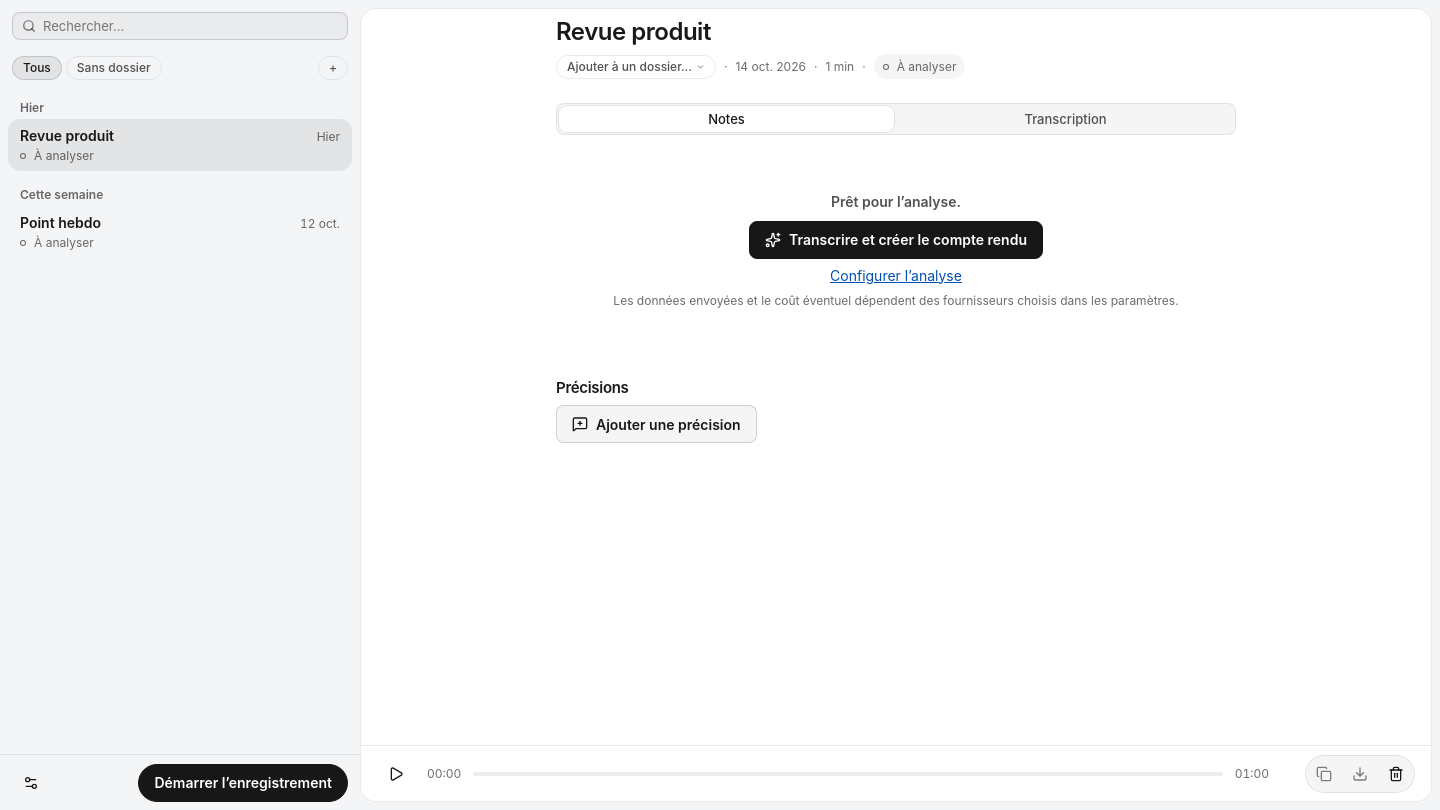
it: The meeting detail in the app › stops the sound when the settings open and comes back at the start
Check: the heading "Revue produit" is shown, box [556,17,711,46]
Click the button named "Lire" at (396, 774), box [377,754,415,792]
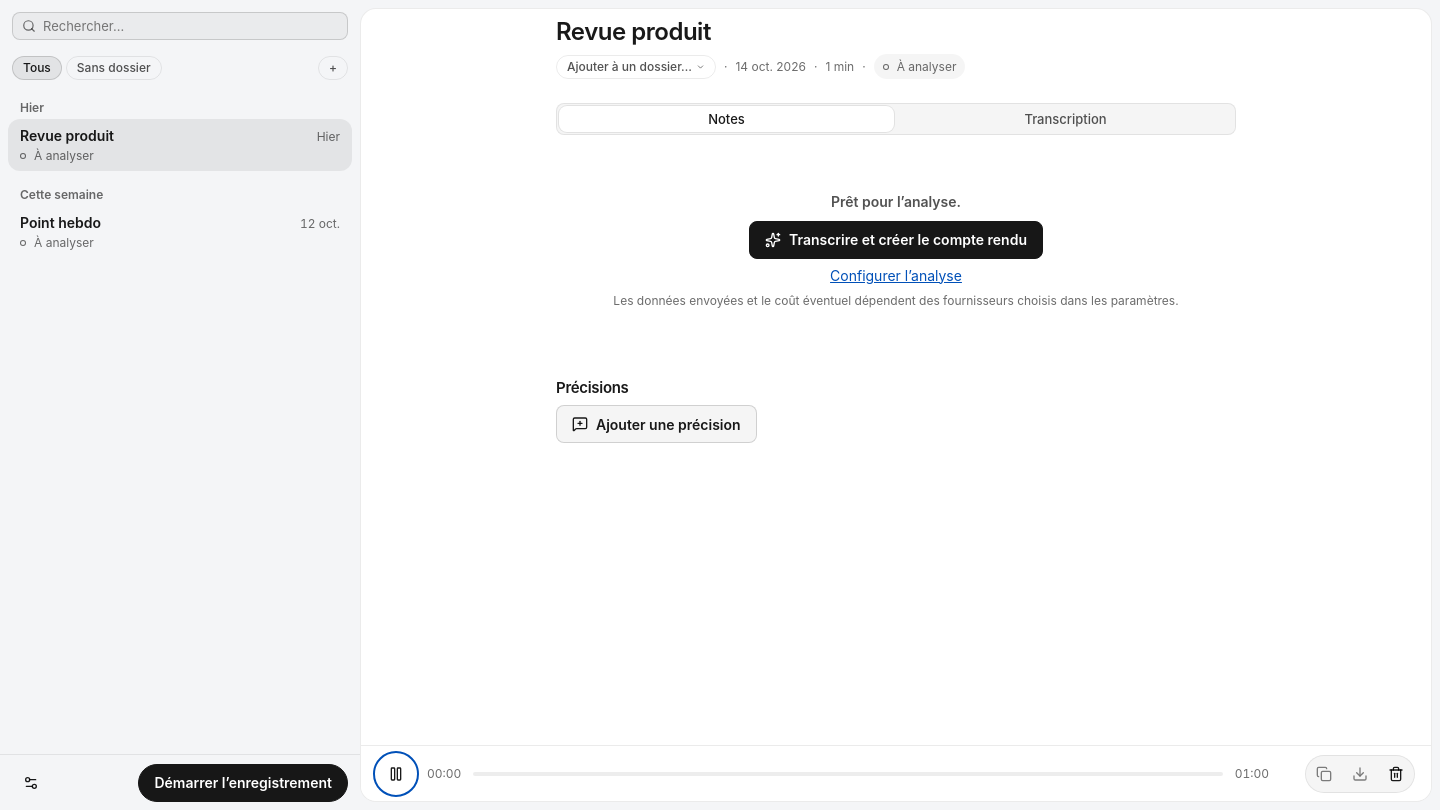
Click the button named "Paramètres" at (31, 782), box [12,764,50,802]
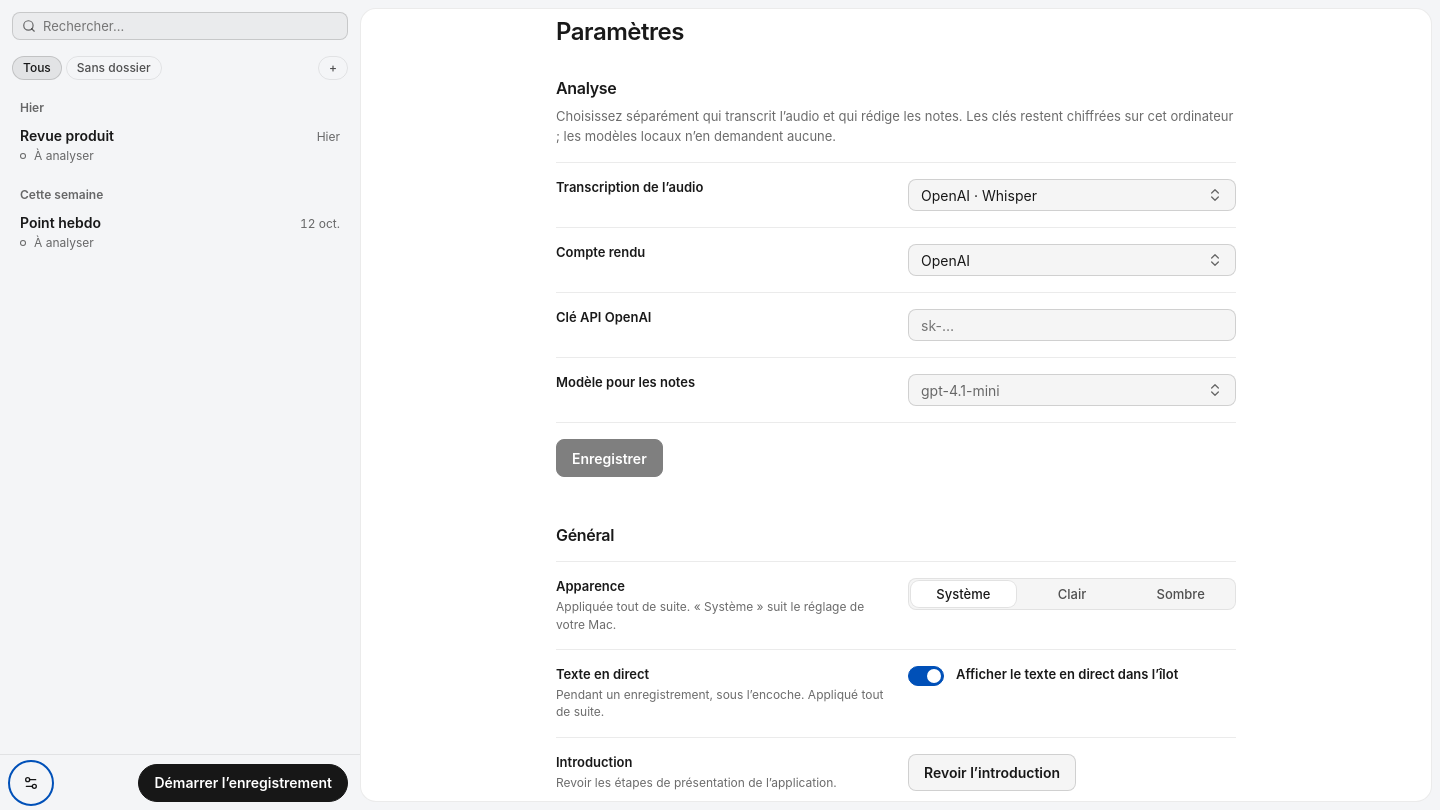
Check: the heading "Paramètres" is shown, box [556,17,684,46]
Click the button named "Paramètres" at (31, 782), box [12,764,50,802]
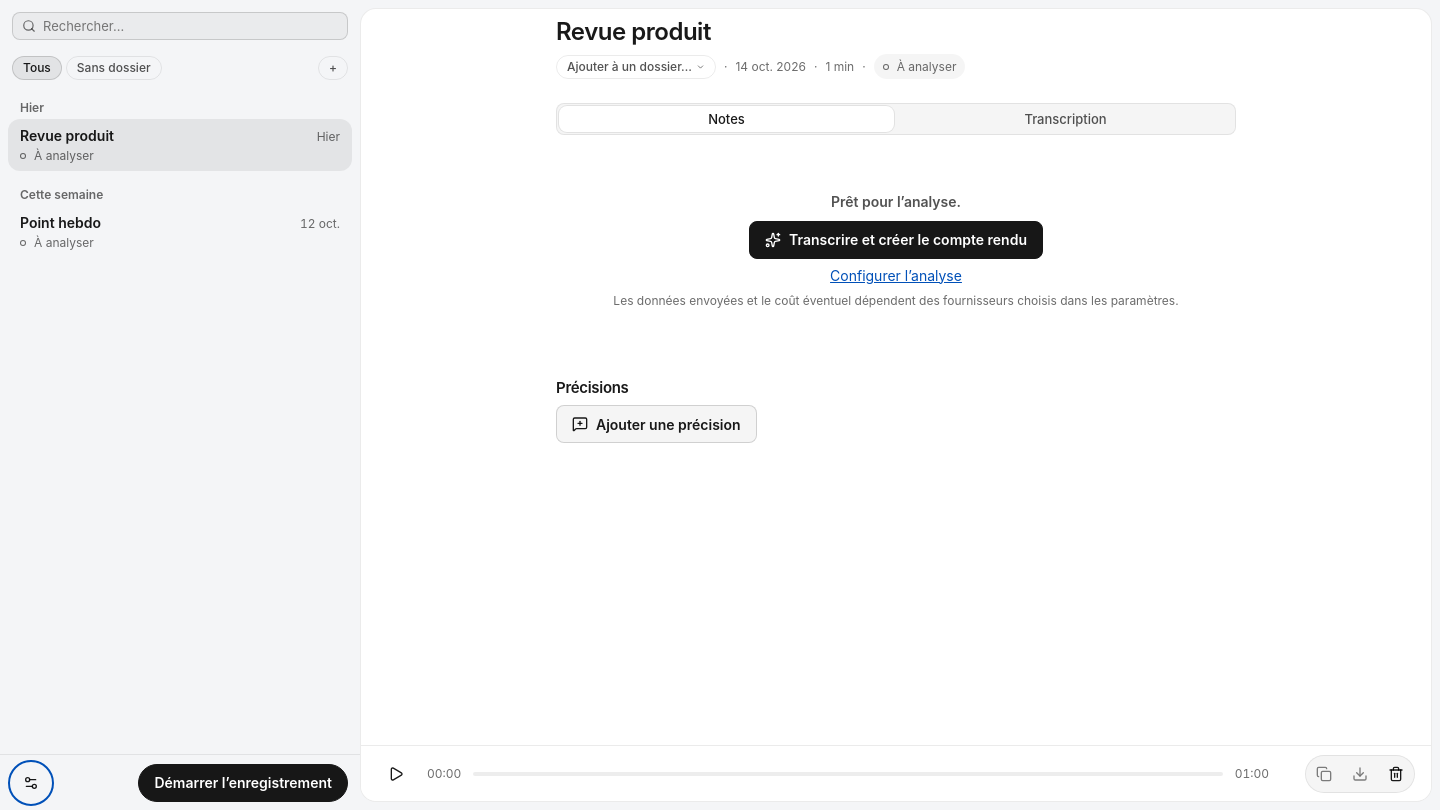
Check: the heading "Revue produit" is shown, box [556,17,711,46]
Check: the button named "Lire" is shown, box [377,754,415,792]
